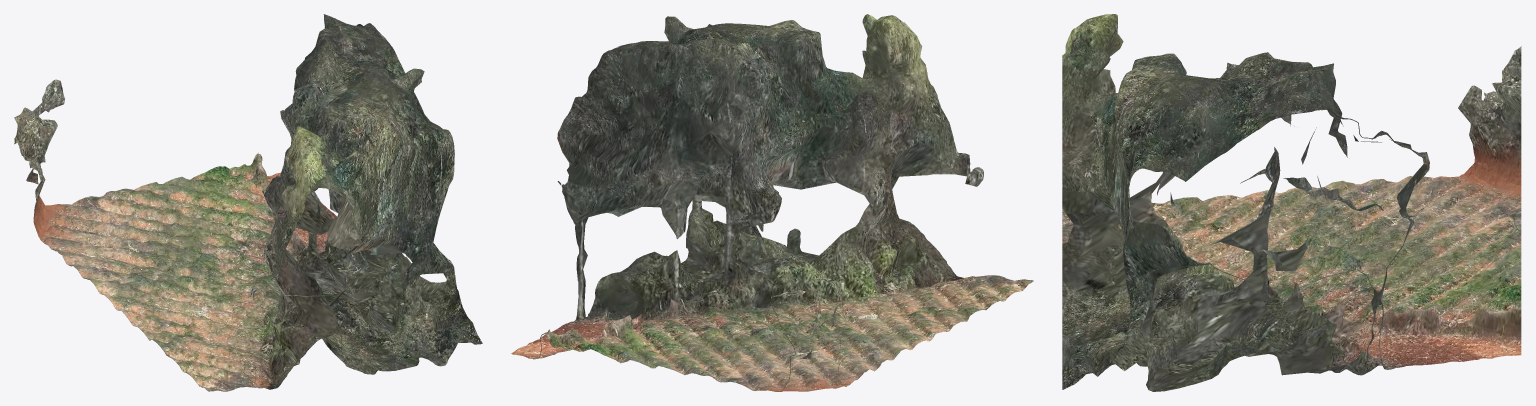
File: BlockYAYY_L20_53.glb
3 views of the same model, side by side, from view 1: azimuth 30°, elevation 25°; view 2: azimuth 150°, elevation 25°; view 3: azimuth 270°, elevation 25° (orthographic). The views are drawn at different scales.
Visible parts, largest first — view 1: rtc; view 2: rtc; view 3: rtc.
Boxes of the visible parts, left/top/right/bottom form: rtc: left=14, top=14, right=482, bottom=391; rtc: left=511, top=14, right=1033, bottom=391; rtc: left=1062, top=14, right=1521, bottom=391.
Size of the model in its own units: 16.64 by 15.59 by 20.51.
Materials: 2 (2 with a texture image).
